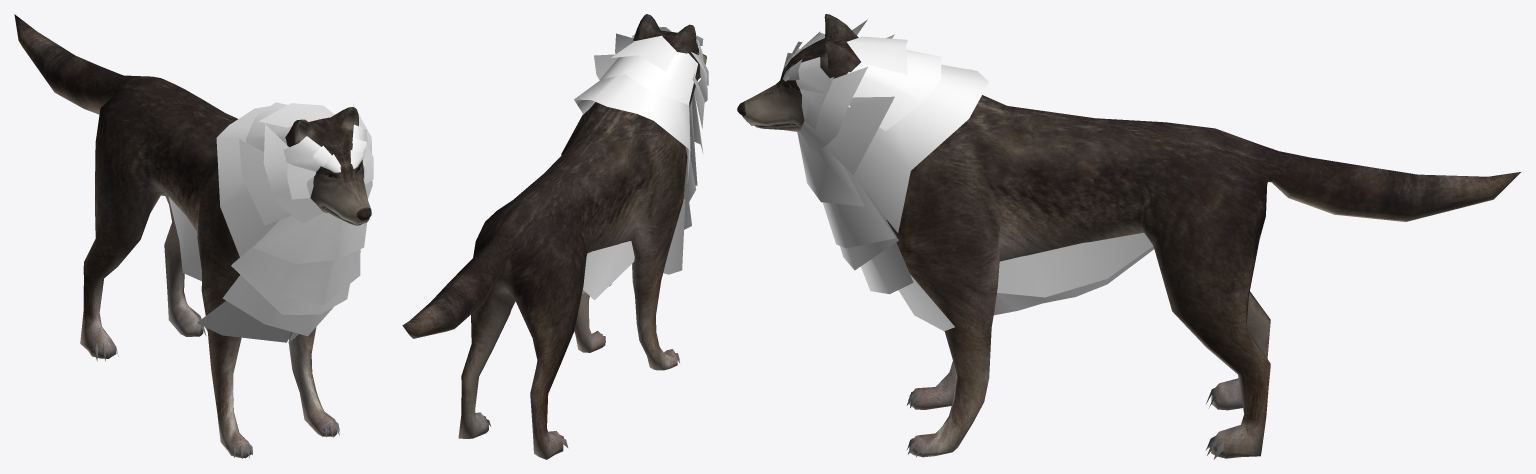
File: wolf.glb
3 renders of one model, left to right at view 1: azimuth 30°, elevation 25°; view 2: azimuth 150°, elevation 25°; view 3: azimuth 270°, elevation 25°, orthographic. The views are drawn at different scales.
Parts seen in each view (by area): view 1: Wolf1_Material__wolf_col_tga_0, Wolf2_fur__fella3_jpg_001_0, Wolf3_claws_0; view 2: Wolf1_Material__wolf_col_tga_0, Wolf2_fur__fella3_jpg_001_0; view 3: Wolf1_Material__wolf_col_tga_0, Wolf2_fur__fella3_jpg_001_0.
Boxes of the visible parts, bbox=[...] form: Wolf1_Material__wolf_col_tga_0: bbox=[14, 14, 371, 458]; Wolf2_fur__fella3_jpg_001_0: bbox=[168, 102, 373, 343]; Wolf3_claws_0: bbox=[94, 317, 339, 458]; Wolf1_Material__wolf_col_tga_0: bbox=[402, 14, 706, 459]; Wolf2_fur__fella3_jpg_001_0: bbox=[574, 27, 708, 300]; Wolf1_Material__wolf_col_tga_0: bbox=[737, 14, 1520, 458]; Wolf2_fur__fella3_jpg_001_0: bbox=[782, 19, 1154, 331].
Size of the model in its own units: 0.244 by 0.5776 by 1.02.
10 materials, 4 textured.
